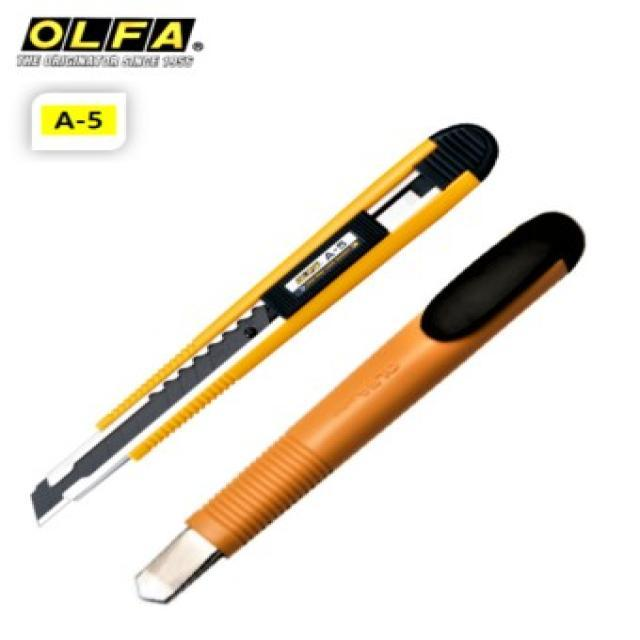cutter: (19, 115, 509, 536), (128, 202, 596, 608)
